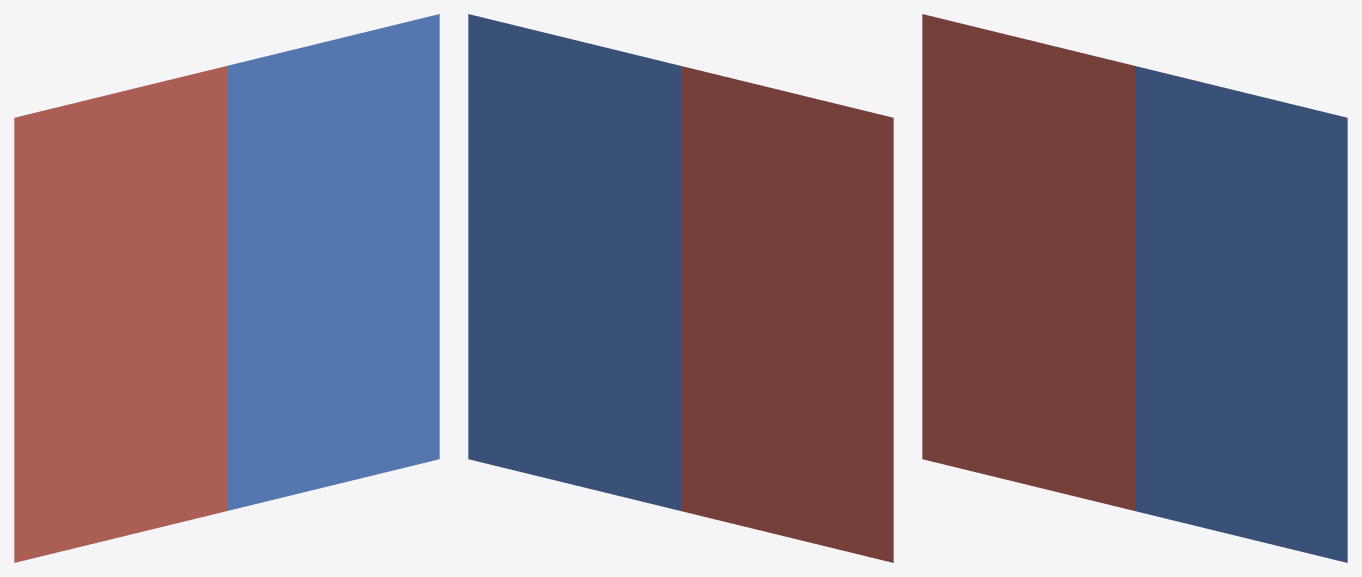
Rendered from ilm_two_region_mesh.glb.
3 renders of one model, left to right at view 1: azimuth 30°, elevation 25°; view 2: azimuth 150°, elevation 25°; view 3: azimuth 330°, elevation 25°, orthographic.
Visible parts, largest first — view 1: IlmTwoRegion; view 2: IlmTwoRegion; view 3: IlmTwoRegion.
Boxes of the visible parts, <box> form: IlmTwoRegion: <box>14,14,439,562</box>; IlmTwoRegion: <box>468,14,893,562</box>; IlmTwoRegion: <box>922,14,1347,562</box>.
Size of the model in its own units: 2 by 2 by 0.
